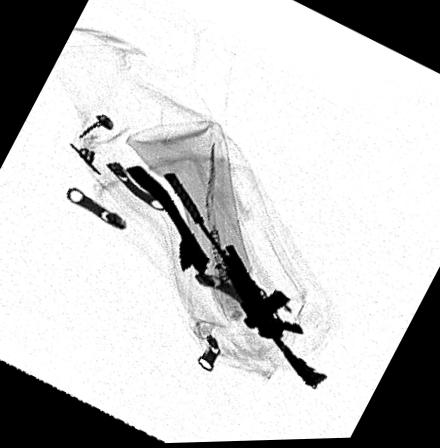Gun: (162, 173, 329, 389)
